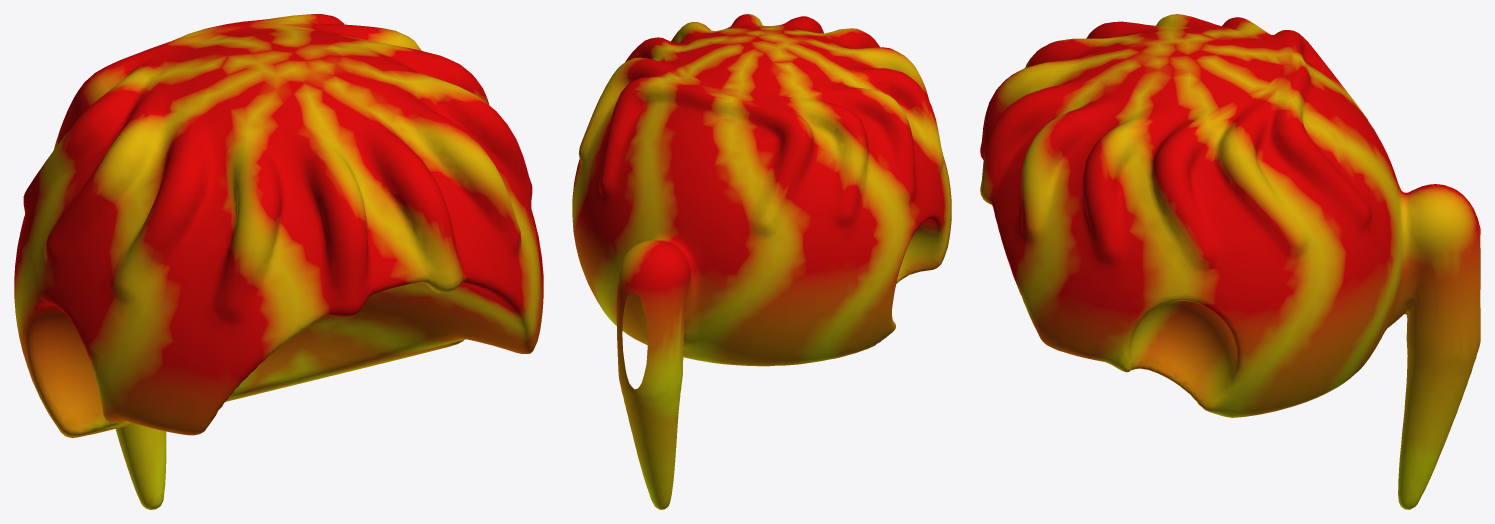
Rendered from ponytail.glb.
3 views of the same model, side by side, from view 1: azimuth 30°, elevation 25°; view 2: azimuth 150°, elevation 25°; view 3: azimuth 270°, elevation 25° (orthographic). The views are drawn at different scales.
Visible parts, largest first — view 1: part; view 2: part; view 3: part.
Part boxes in pixels (x1,y1,x2,y2): part: (14, 14, 543, 509); part: (572, 14, 951, 509); part: (980, 14, 1480, 509).
Size of the model in its own units: 2.08 by 2.44 by 2.42.
